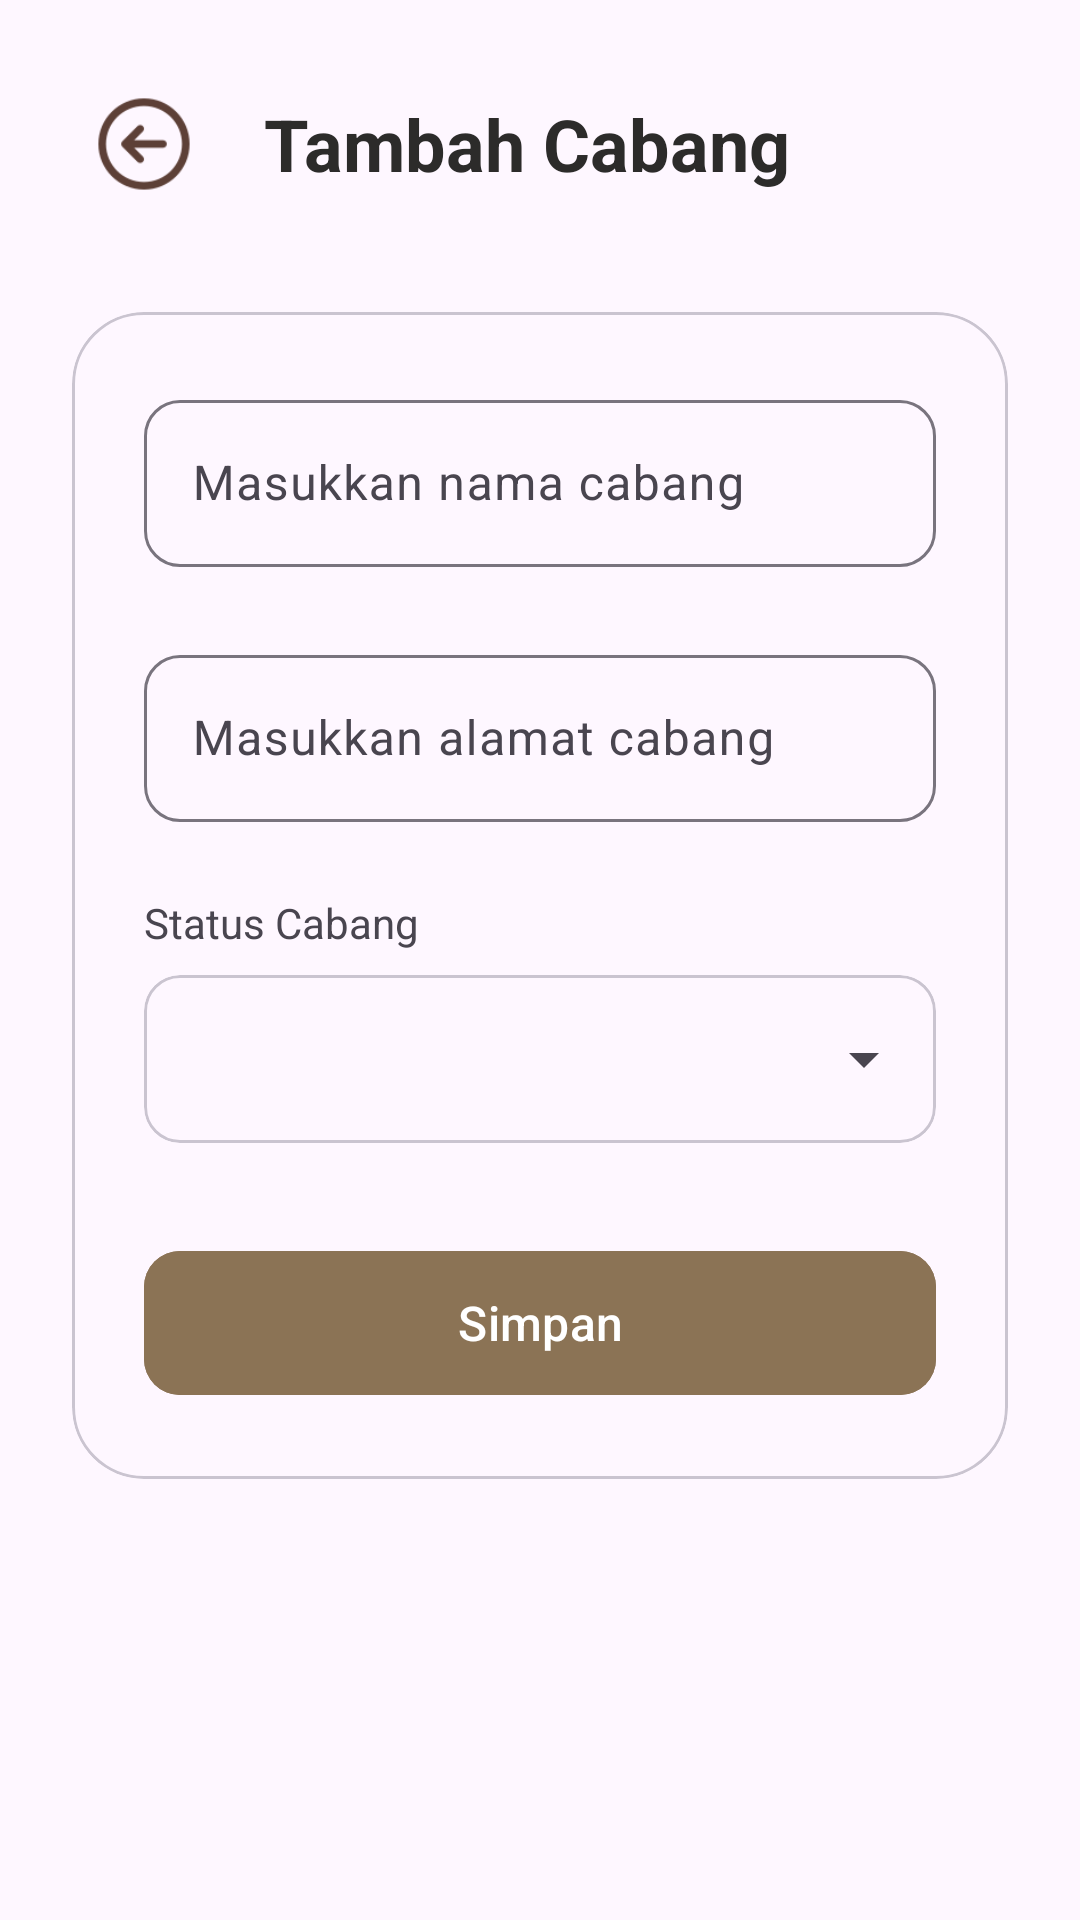

Named icons in this screenshot (1080 × 1920) and their centers, [x,y]:
back: [144,144]
